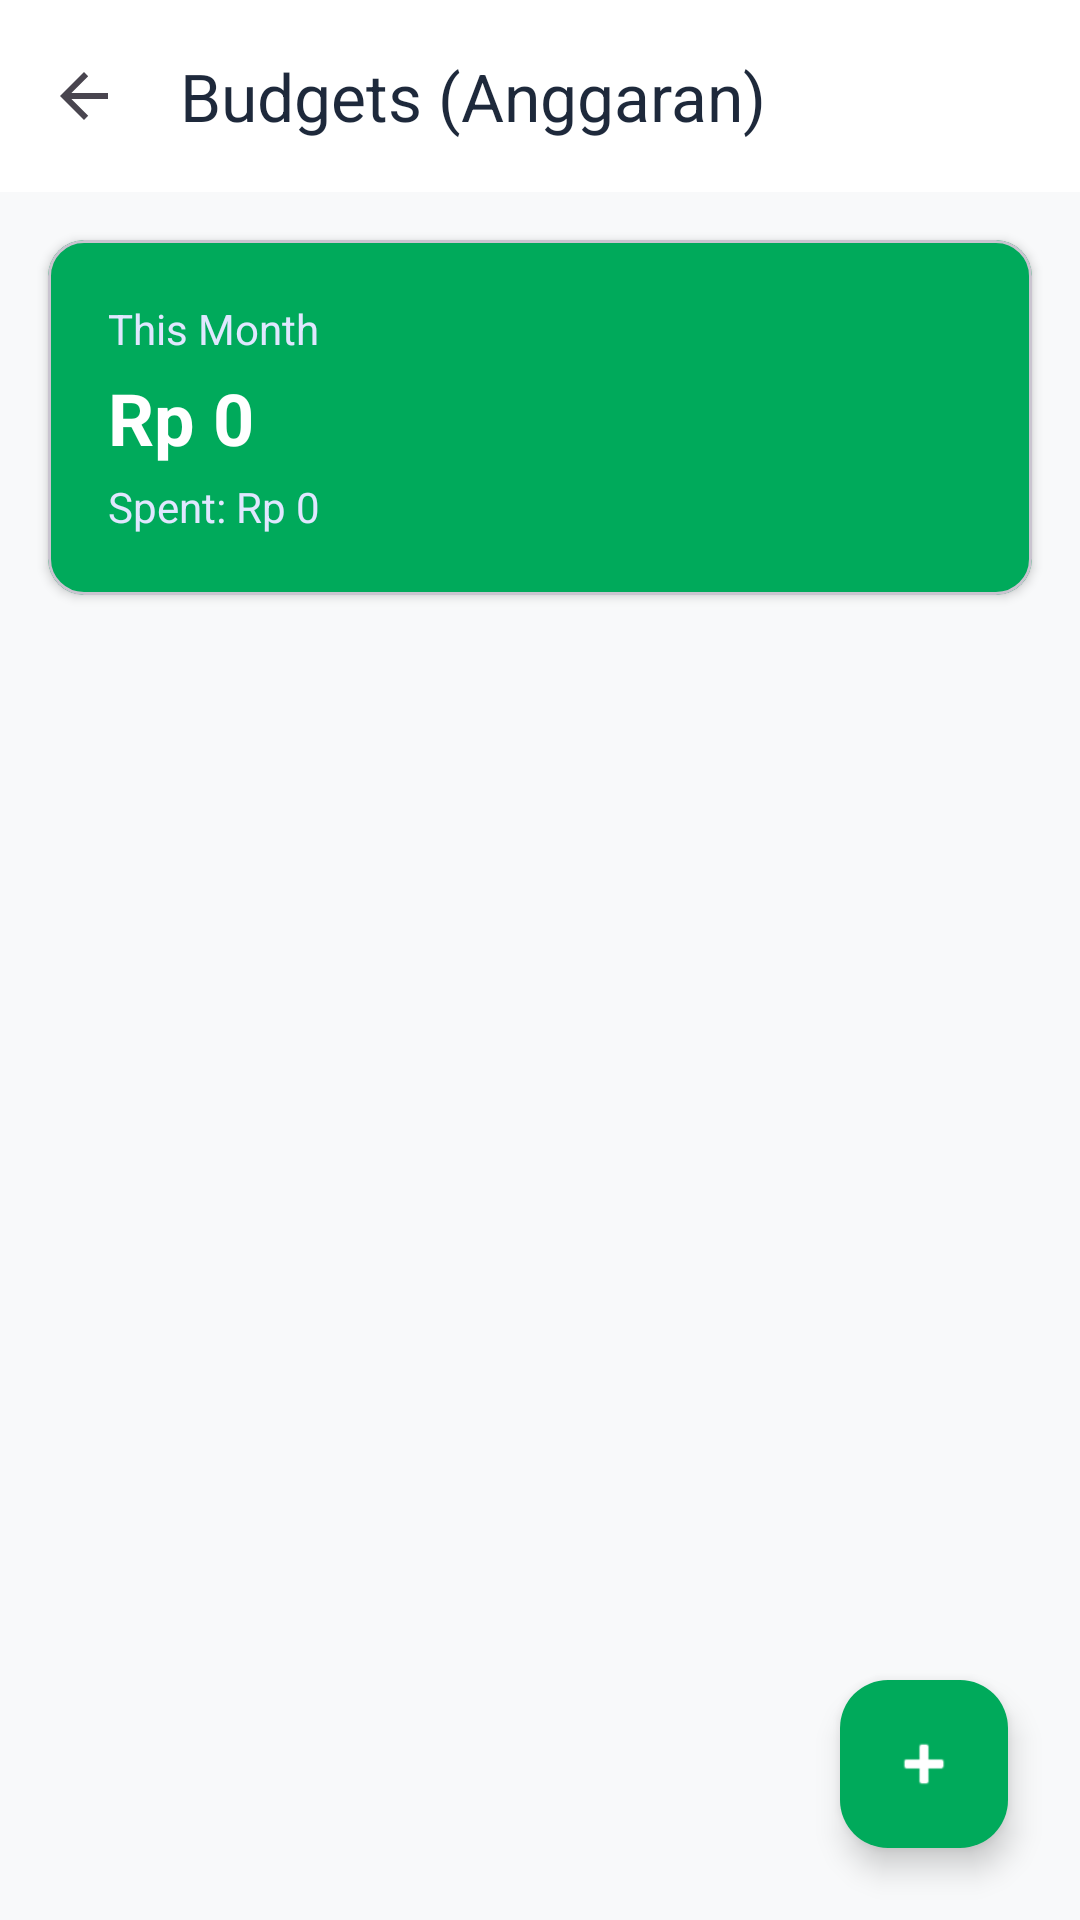

Where to tap for icons on this 1080x1920 app screen, as (x,y):
Add Budget: (924,1764)
